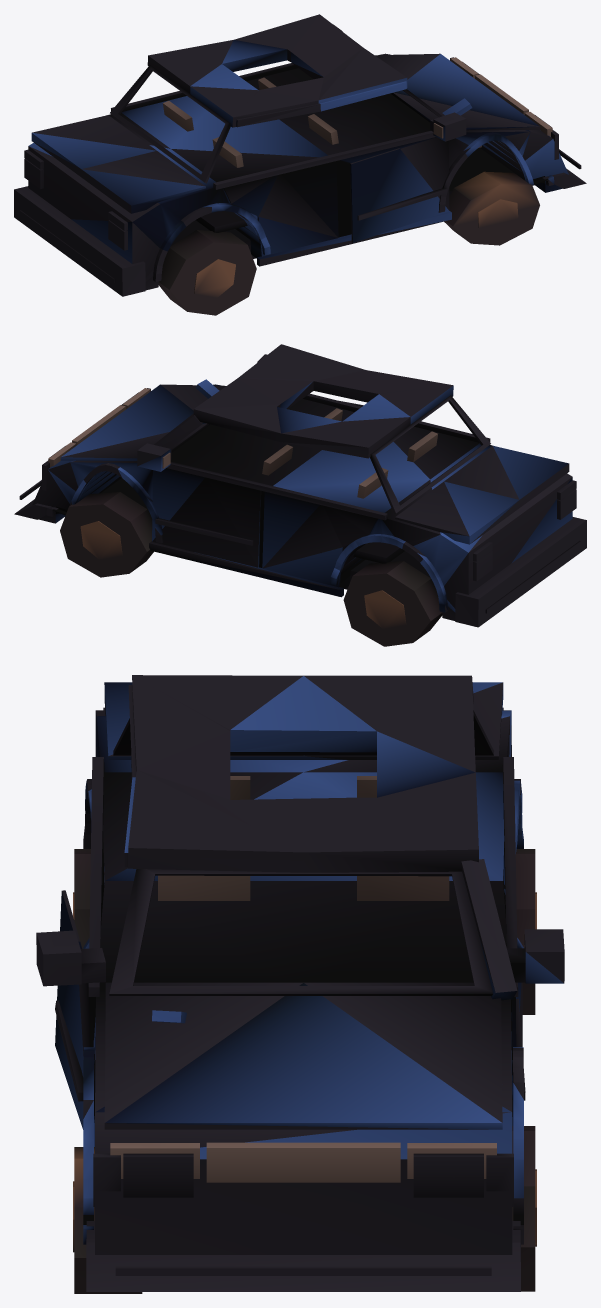
The model's file is veh.sedan-blue.burned.lod2.glb.
The picture shows the model from 3 angles, top to bottom: view 1: azimuth 30°, elevation 25°; view 2: azimuth 150°, elevation 25°; view 3: azimuth 270°, elevation 25°; orthographic projection. The views are drawn at different scales.
Visible parts, largest first — view 1: body, wheelRL, wheelFL; view 2: body, wheelRR, wheelFR; view 3: body, wheelFR, wheelRR, wheelFL, wheelRL.
Part boxes in pixels (bbox=[...]): body: bbox=[14, 14, 586, 296]; wheelRL: bbox=[158, 230, 256, 315]; wheelFL: bbox=[444, 171, 539, 245]; body: bbox=[14, 344, 586, 627]; wheelRR: bbox=[343, 561, 442, 646]; wheelFR: bbox=[60, 492, 153, 577]; body: bbox=[36, 675, 564, 1291]; wheelFR: bbox=[512, 1126, 536, 1291]; wheelRR: bbox=[515, 849, 536, 1014]; wheelFL: bbox=[73, 1147, 142, 1293]; wheelRL: bbox=[73, 849, 104, 948].
Bounding box in the file's own units: 4.45 × 1.64 × 2.18.
